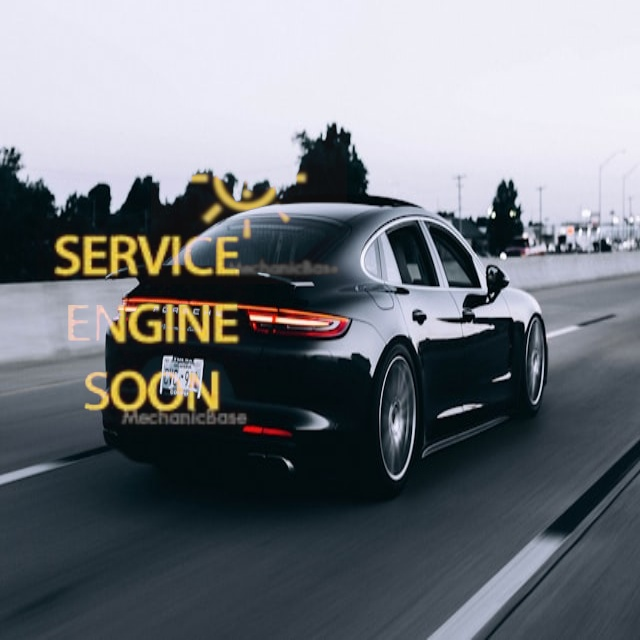symbol: (37, 217, 255, 435), (151, 88, 347, 284)
